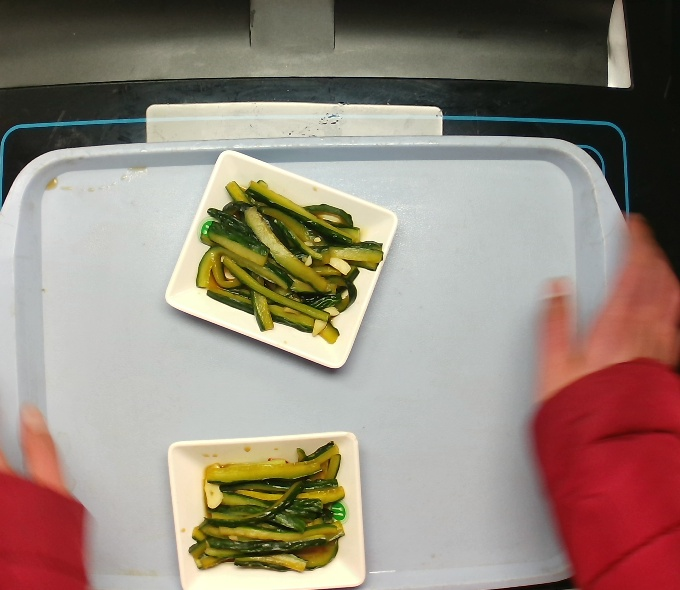wcq-LiangBanHuangGua: (192, 175, 388, 346), (182, 435, 351, 578)
